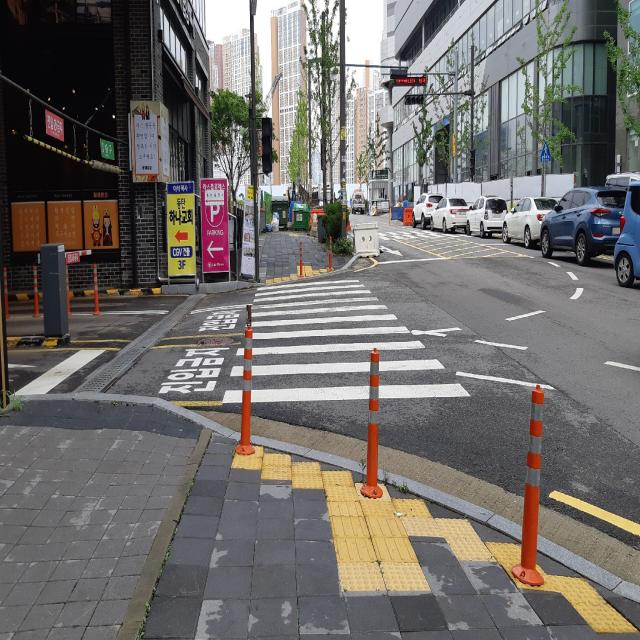횡단보도: (222, 278, 472, 404)
